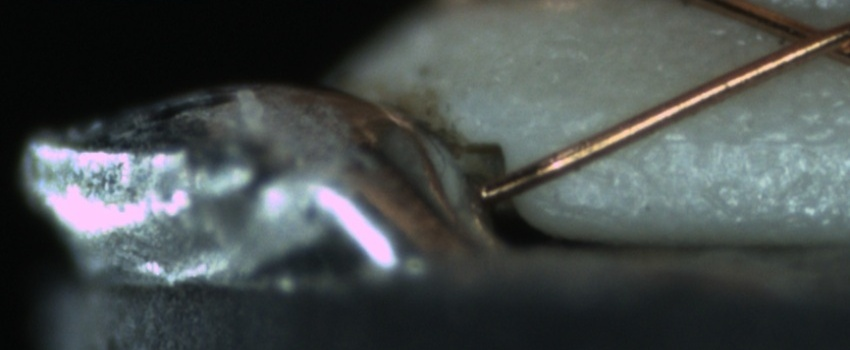CL: (758, 7, 850, 68)
DL: (666, 108, 850, 170)
